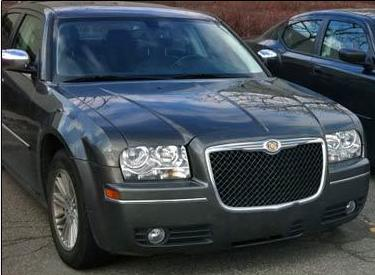front_view: (110, 130, 368, 240)
headlight: (124, 141, 196, 184)
side_glass: (3, 10, 44, 75)
